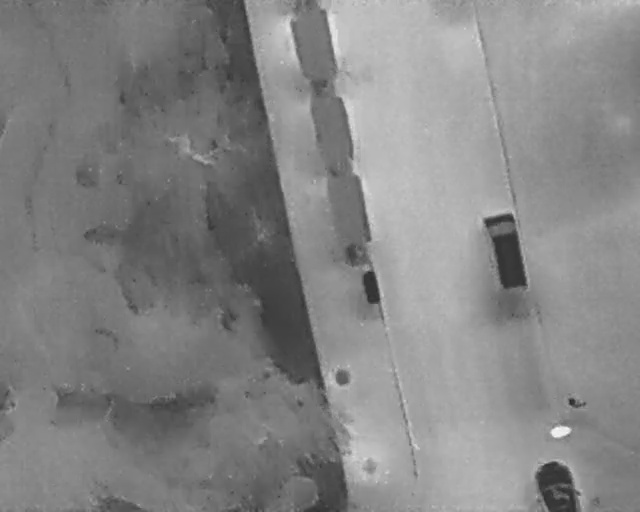Car: (534, 459, 584, 510)
OtherVehicle: (480, 208, 532, 294)
